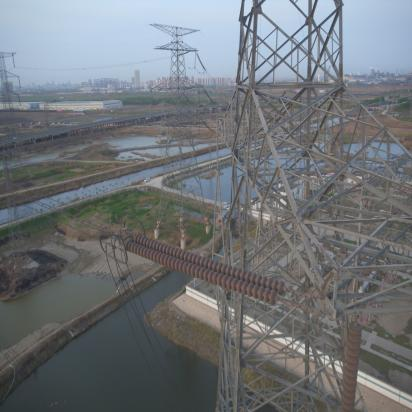insulator: (121, 231, 294, 307)
